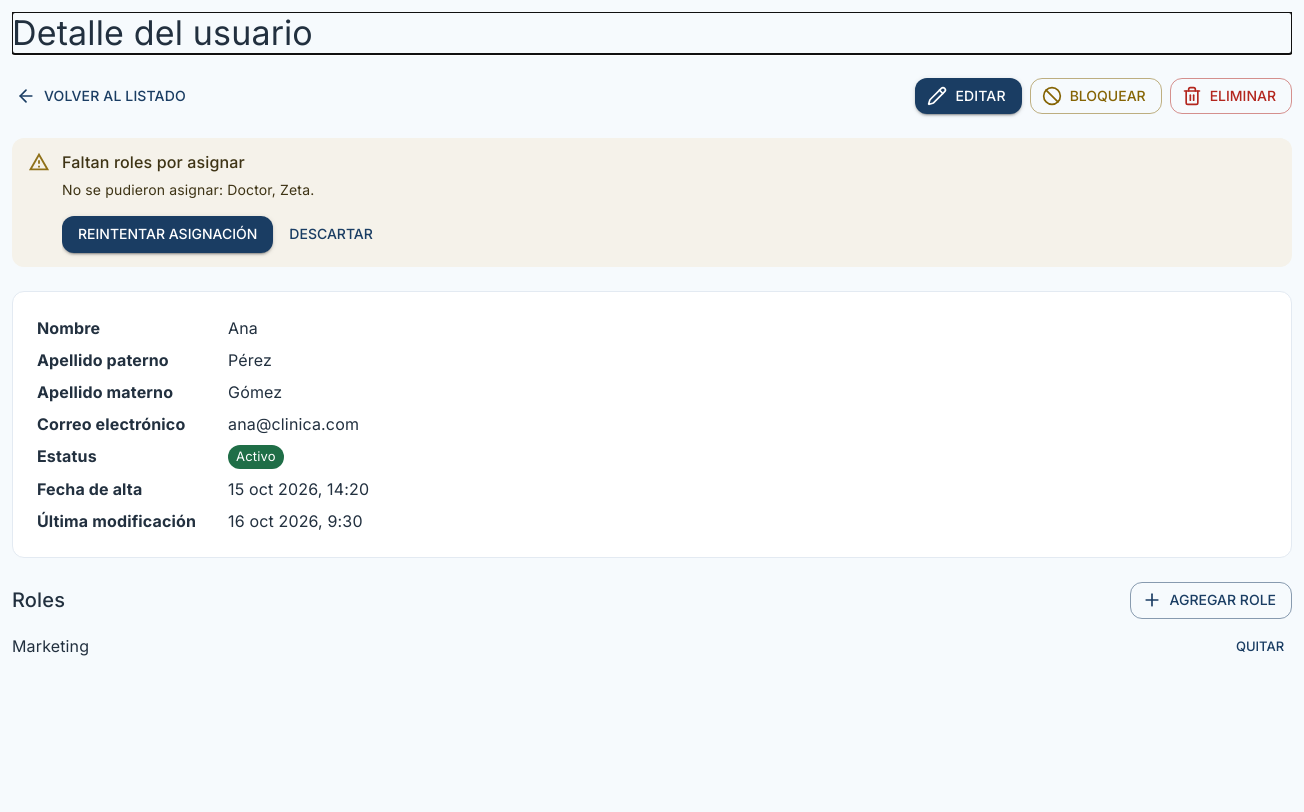
Test: UserDetailPage › the roles that could not be assigned when the user was created (FR-023) › keeps in the warning only the roles that still fail
Step 1. Click the button "Reintentar asignación" → {"x": 168, "y": 234}, box [62,216,273,253]
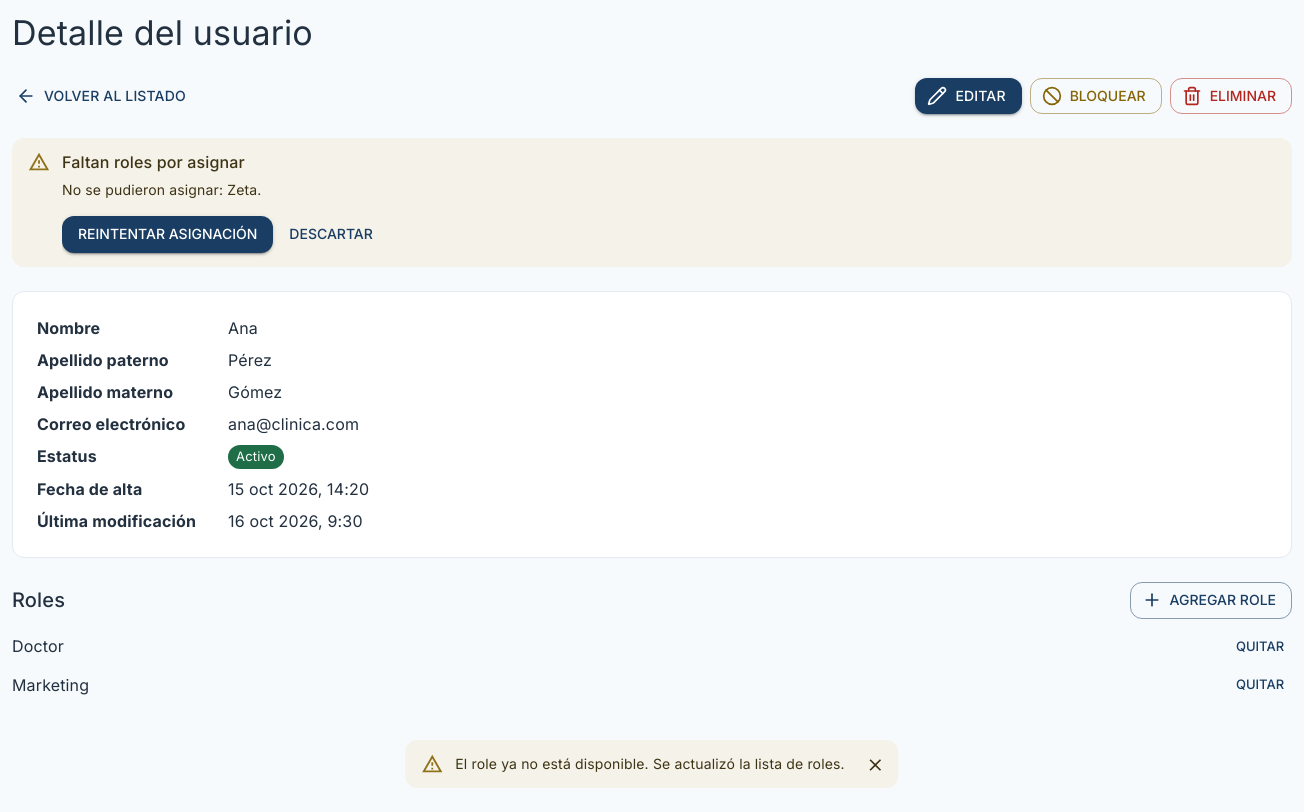
Check: the text "Doctor" is shown, box [12,634,64,658]
Check: the text "El role ya no está disponible. Se actualizó la lista de roles." is shown, box [455,755,845,772]
